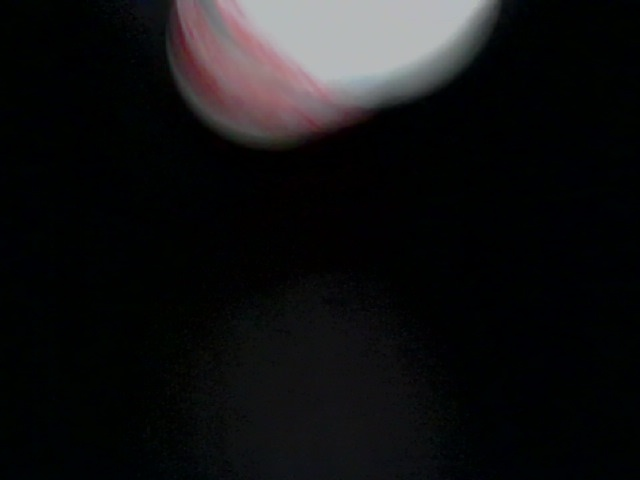CYLJ: (504, 197, 640, 466)
